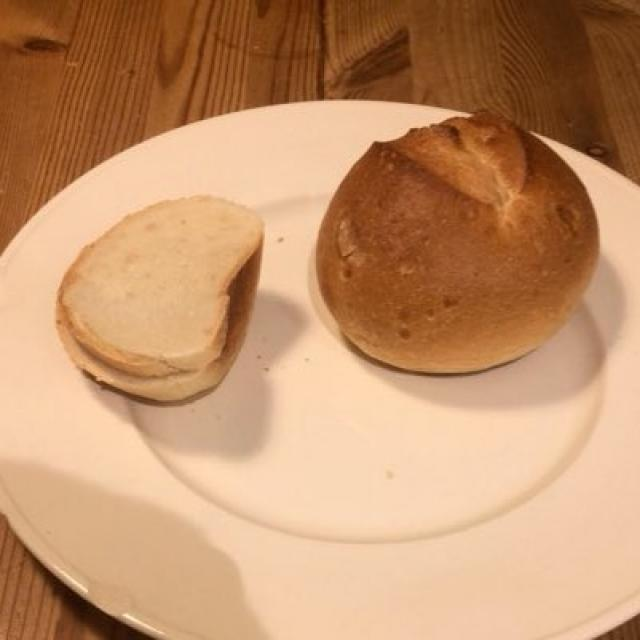bread: (45, 108, 612, 410)
